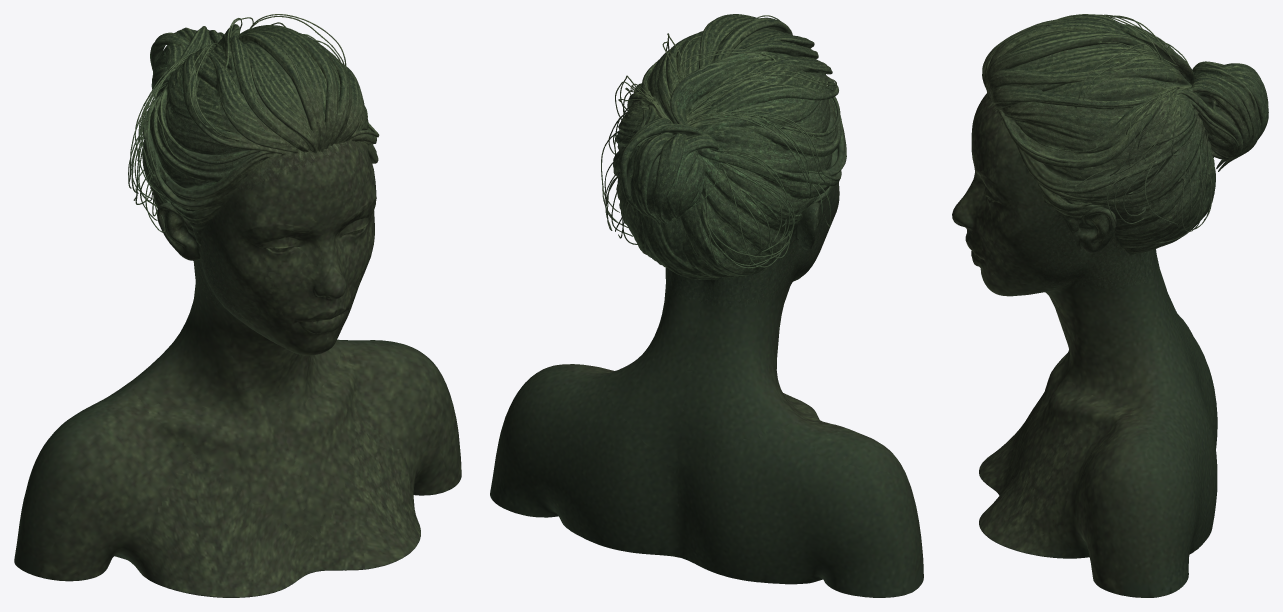
The model's file is nova-display.glb.
3 renders of one model, left to right at view 1: azimuth 30°, elevation 25°; view 2: azimuth 150°, elevation 25°; view 3: azimuth 270°, elevation 25°, orthographic. The views are drawn at different scales.
Size of the model in its own units: 1.72 by 1.9 by 1.15.
1 material, 1 textured.
